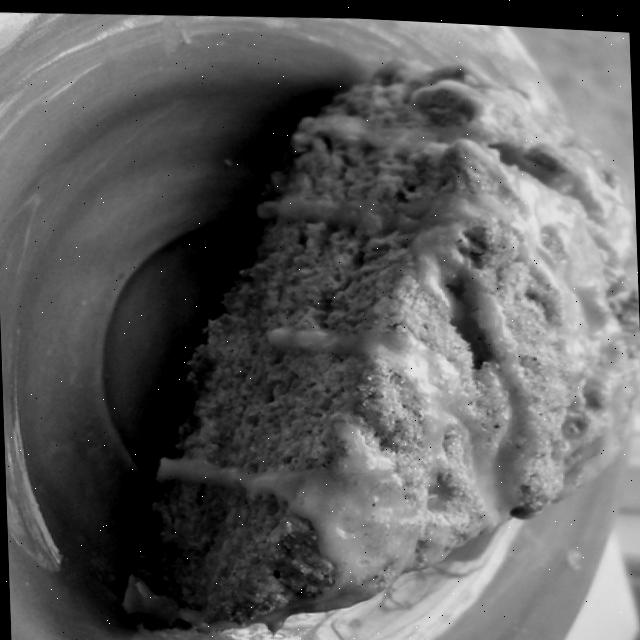面包点心: (39, 9, 640, 640)
